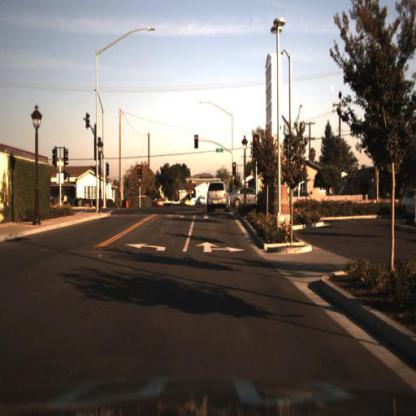car: (229, 183, 269, 211), (206, 182, 230, 216), (178, 195, 194, 211), (156, 194, 167, 210)
trafficLight-Red: (137, 163, 145, 181), (231, 161, 238, 180), (193, 134, 201, 150), (253, 136, 260, 148), (193, 131, 199, 144), (232, 161, 238, 173), (137, 163, 144, 173)
